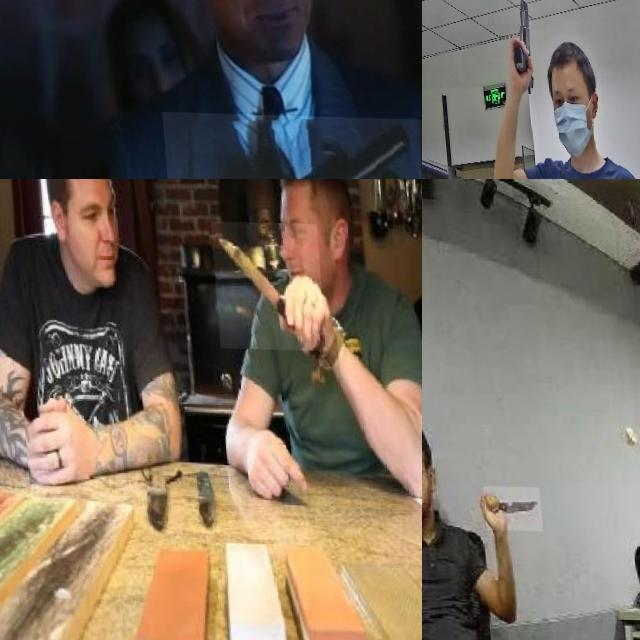-: (207, 218, 322, 348), (478, 485, 536, 530)
gun-knife-thesis - v11 Yolov5 augmented: (156, 110, 422, 179), (492, 0, 532, 85), (489, 0, 537, 48), (422, 0, 438, 62), (422, 0, 445, 42)
